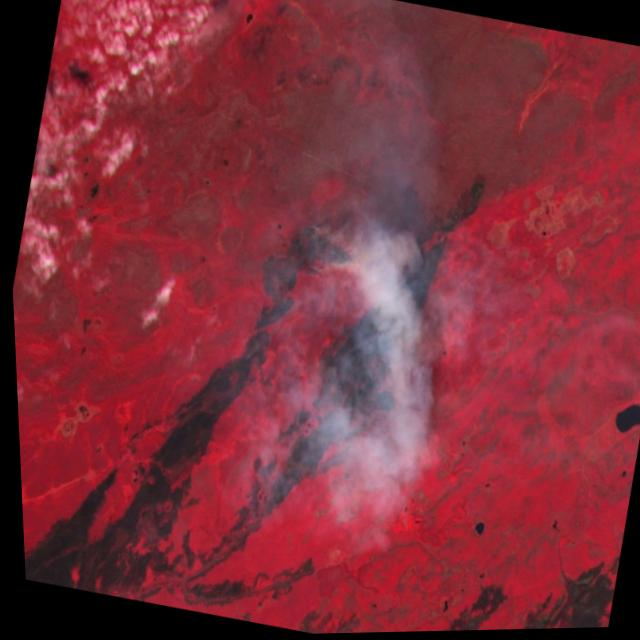fire: (272, 209, 367, 294)
